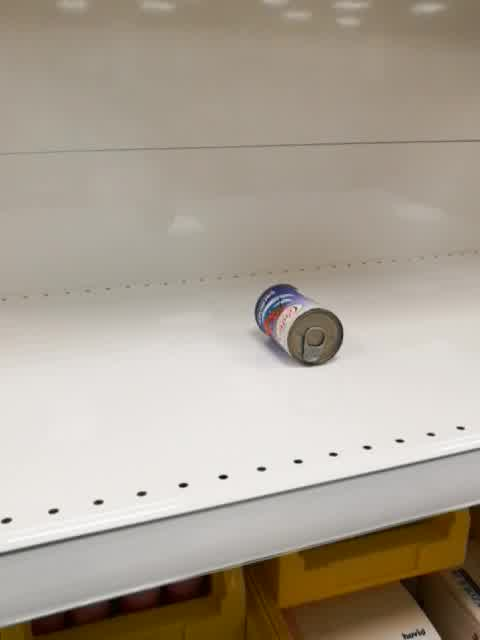sardine: (253, 283, 345, 367)
